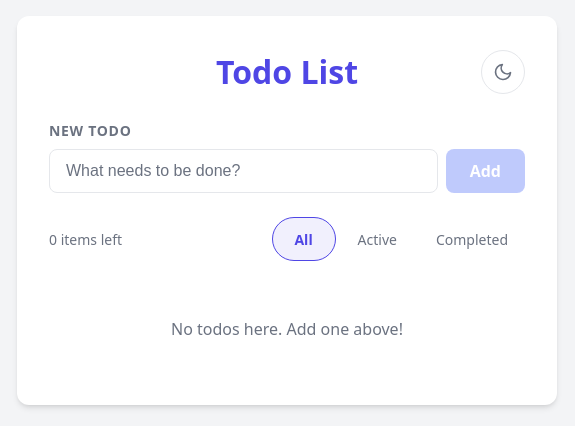
Scenario: App › deletes a todo
Type "Read book" into the field labelled "New todo".
click(243, 171); type("Read book")  # box [49, 149, 438, 193]
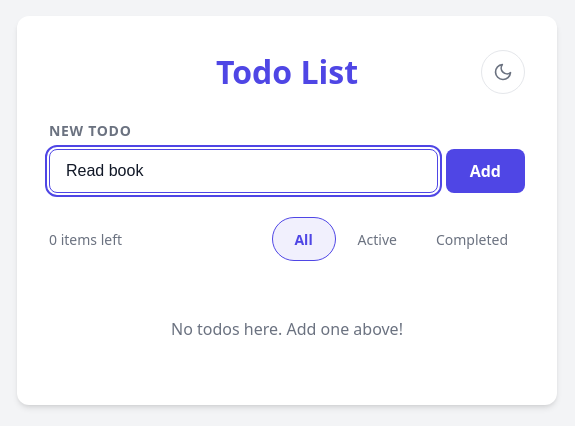
Click the button "Add".
click(485, 171)  # box [446, 149, 525, 193]
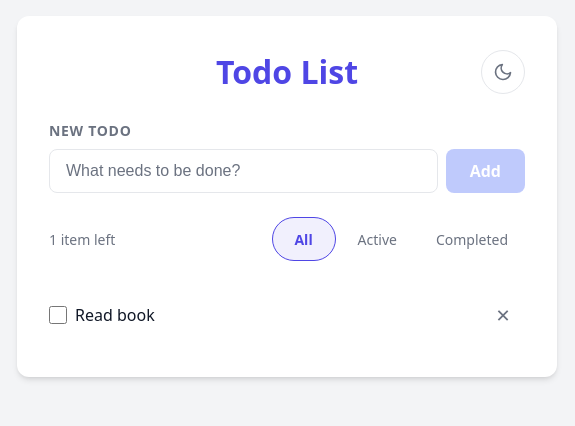
Click the button named "delete \"read book\"".
click(503, 315)  # box [481, 293, 525, 337]
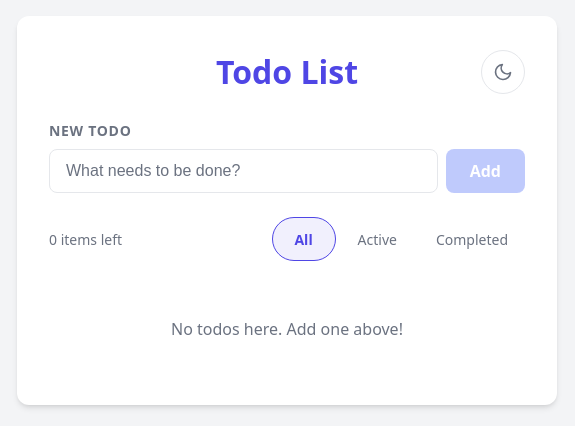
Result: the text "Read book" is gone
